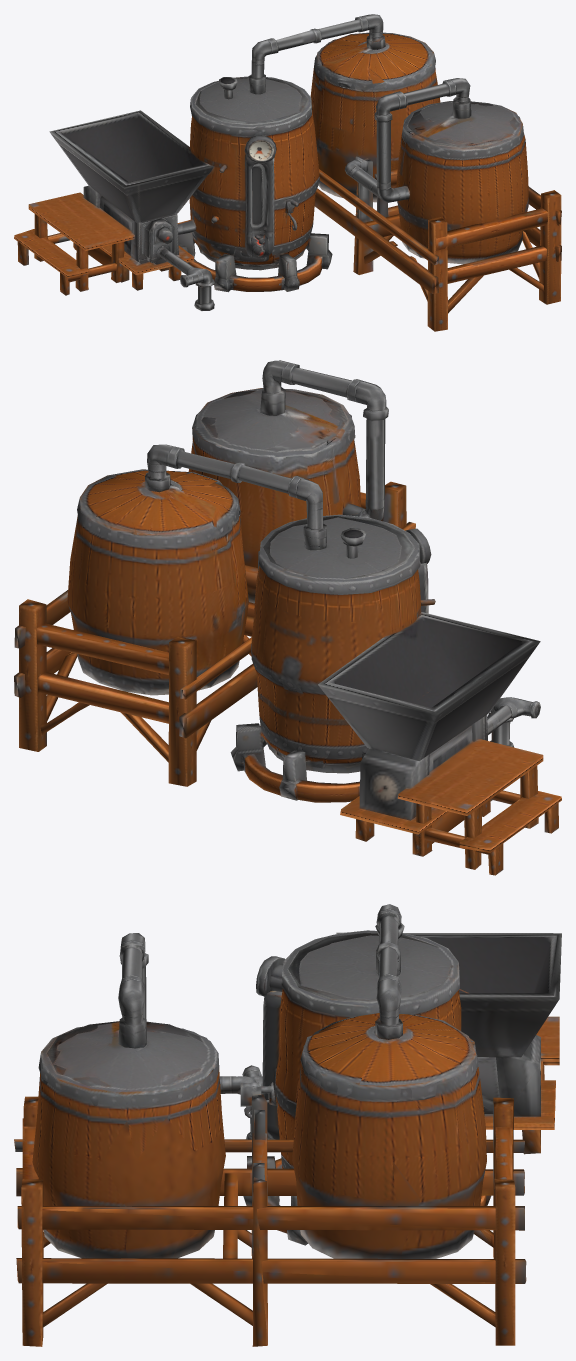
Rendered from fermentation_station.glb.
3 views of the same model, one above another, from view 1: azimuth 30°, elevation 25°; view 2: azimuth 150°, elevation 25°; view 3: azimuth 270°, elevation 25° (orthographic). The views are drawn at different scales.
Bounding box in the file's own units: 1 × 0.5547 × 0.8711.
Materials: 1 (1 with a texture image).
